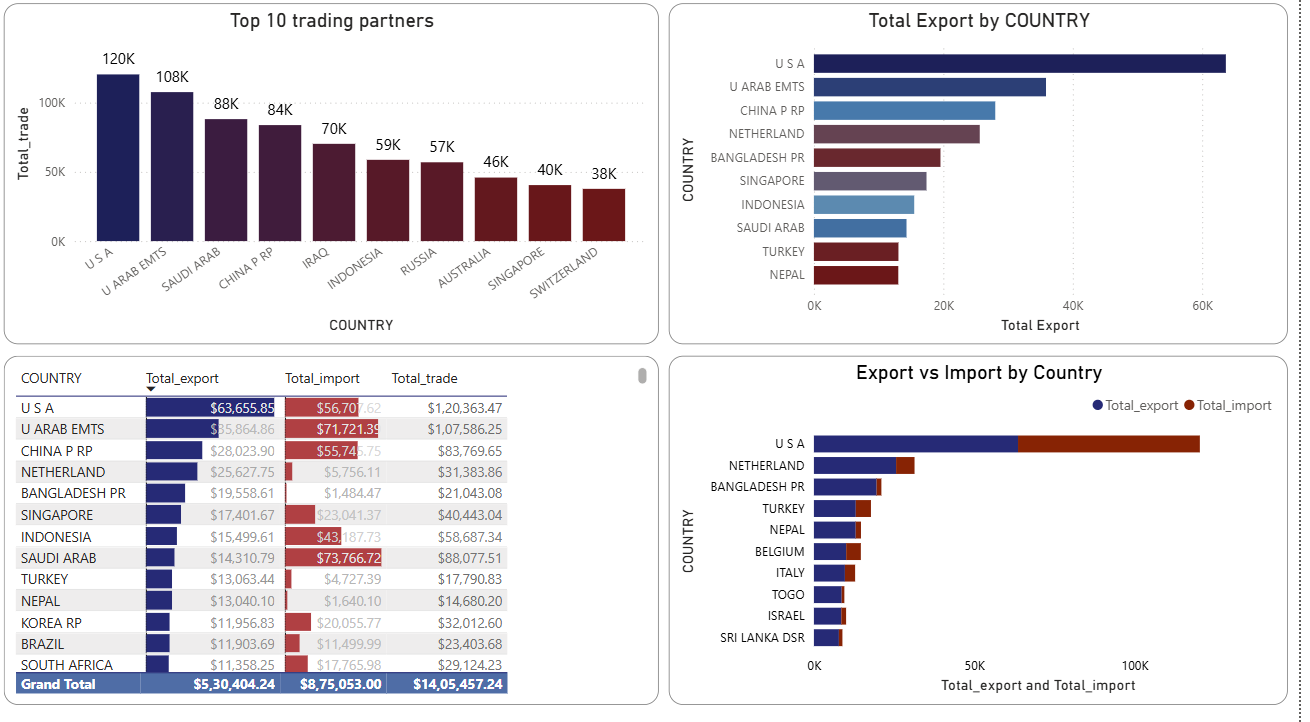

This screenshot's page, from the dashboard's own definition file:
{"tool":"powerbi","page":{"name":"Country Analysis","canvas":[1280,720],"ordinal":2},"visuals":[{"type":"clusteredColumnChart","title":"Top 10 trading partners","fields":{"Category":["Trade_data.COUNTRY"],"Y":["Trade_data.Total_trade"]},"box":[13,15.9,640.6,333.3],"z":3000},{"type":"barChart","fields":{"Category":["Trade_data.COUNTRY"],"Y":["Trade_data.Total_export"]},"box":[663.7,15.9,606,333.3],"z":4000},{"type":"tableEx","fields":{"Values":["Trade_data.COUNTRY","Trade_data.Total_export","Trade_data.Total_import","Trade_data.Total_trade"]},"box":[13,360.7,640.6,341.9],"z":5000},{"type":"barChart","title":"Export vs Import by Country","fields":{"Category":["Trade_data.COUNTRY"],"Y":["Trade_data.Total_export","Trade_data.Total_import"]},"box":[663.7,360.7,606,341.9],"z":6000}]}

Visuals, with their boxes in screenshot pixels (x1, y1, x2, y2), scaled from the page's 1280x720 canvas onto the 1310x722 screenshot:
"Top 10 trading partners" clusteredColumnChart: <region>13, 16, 669, 350</region>
barChart - Trade_data.COUNTRY x Trade_data.Total_export: <region>679, 16, 1299, 350</region>
tableEx - Trade_data.COUNTRY x Trade_data.Total_export: <region>13, 362, 669, 705</region>
"Export vs Import by Country" barChart: <region>679, 362, 1299, 705</region>
